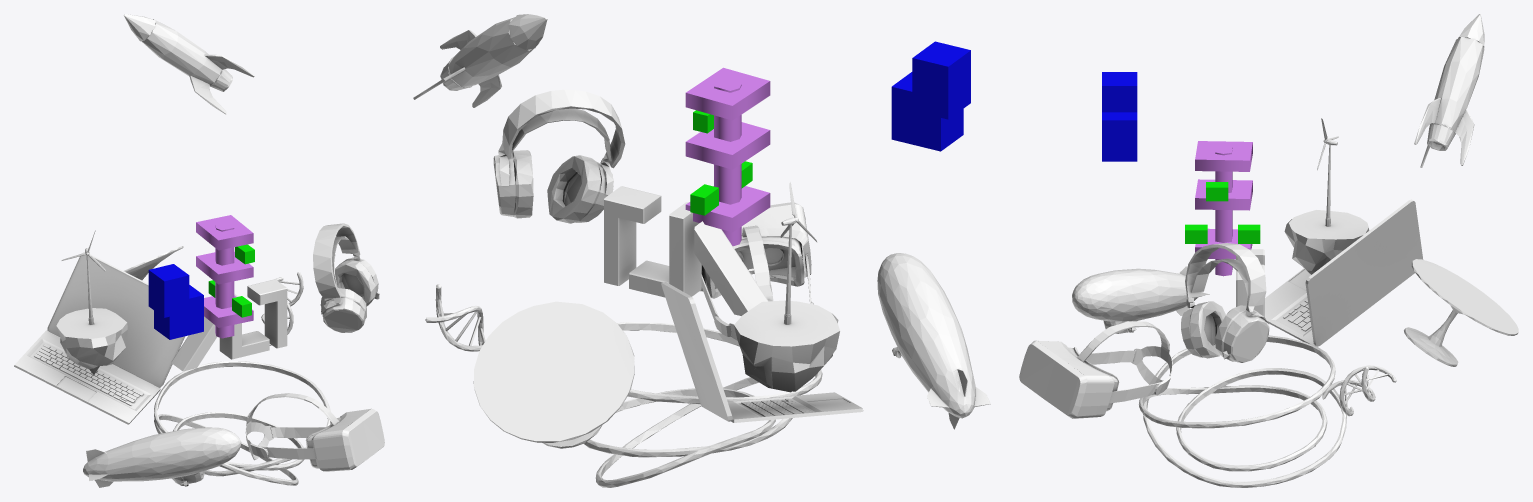
Rendered from compressed3color.glb.
The picture shows the model from 3 angles, left to right: view 1: azimuth 30°, elevation 25°; view 2: azimuth 150°, elevation 25°; view 3: azimuth 270°, elevation 25°; orthographic projection. The views are drawn at different scales.
Parts seen in each view (by area): view 1: Notebook, Zeppelin, VR Headset, Headphones, tower, Altair Studio-Logo, Rocket.003, Roundcube.001, Curly, OverallParent, Table, DNA; view 2: Table, Altair Studio-Logo, tower, Headphones, Zeppelin, Roundcube.001, OverallParent, Curly, Notebook, VR Headset, Rocket.003, DNA; view 3: Notebook, VR Headset, Curly, Headphones, tower, Zeppelin, Rocket.003, Table, Roundcube.001, OverallParent, DNA, Altair Studio-Logo.
Boxes of the visible parts, bbox=[...] form: Notebook: bbox=[14, 252, 184, 424]; Zeppelin: bbox=[83, 427, 241, 487]; VR Headset: bbox=[245, 393, 384, 471]; Headphones: bbox=[313, 223, 379, 332]; tower: bbox=[196, 215, 254, 338]; Altair Studio-Logo: bbox=[171, 279, 287, 371]; Rocket.003: bbox=[123, 14, 254, 114]; Roundcube.001: bbox=[56, 230, 127, 374]; Curly: bbox=[154, 361, 330, 485]; OverallParent: bbox=[148, 264, 203, 339]; Table: bbox=[124, 246, 183, 280]; DNA: bbox=[261, 272, 303, 345]; Table: bbox=[473, 301, 634, 448]; Altair Studio-Logo: bbox=[604, 186, 767, 315]; tower: bbox=[685, 67, 770, 246]; Headphones: bbox=[493, 89, 625, 223]; Zeppelin: bbox=[877, 253, 990, 429]; Roundcube.001: bbox=[734, 182, 839, 392]; OverallParent: bbox=[891, 41, 970, 151]; Curly: bbox=[583, 322, 822, 487]; Notebook: bbox=[661, 282, 863, 422]; VR Headset: bbox=[700, 202, 813, 340]; Rocket.003: bbox=[413, 14, 547, 107]; DNA: bbox=[425, 284, 485, 351]; Notebook: bbox=[1265, 199, 1423, 346]; VR Headset: bbox=[1019, 321, 1172, 418]; Curly: bbox=[1138, 335, 1346, 487]; Headphones: bbox=[1181, 243, 1269, 362]; tower: bbox=[1185, 141, 1260, 276]; Zeppelin: bbox=[1072, 266, 1209, 333]; Rocket.003: bbox=[1414, 14, 1484, 167]; Table: bbox=[1404, 259, 1518, 366]; Roundcube.001: bbox=[1284, 118, 1369, 274]; OverallParent: bbox=[1102, 72, 1137, 161]; DNA: bbox=[1322, 365, 1396, 416]; Altair Studio-Logo: bbox=[1236, 249, 1264, 320].
Bounding box in the file's own units: 63.68 × 75.73 × 77.01.
Materials: 14 (10 with a texture image).
